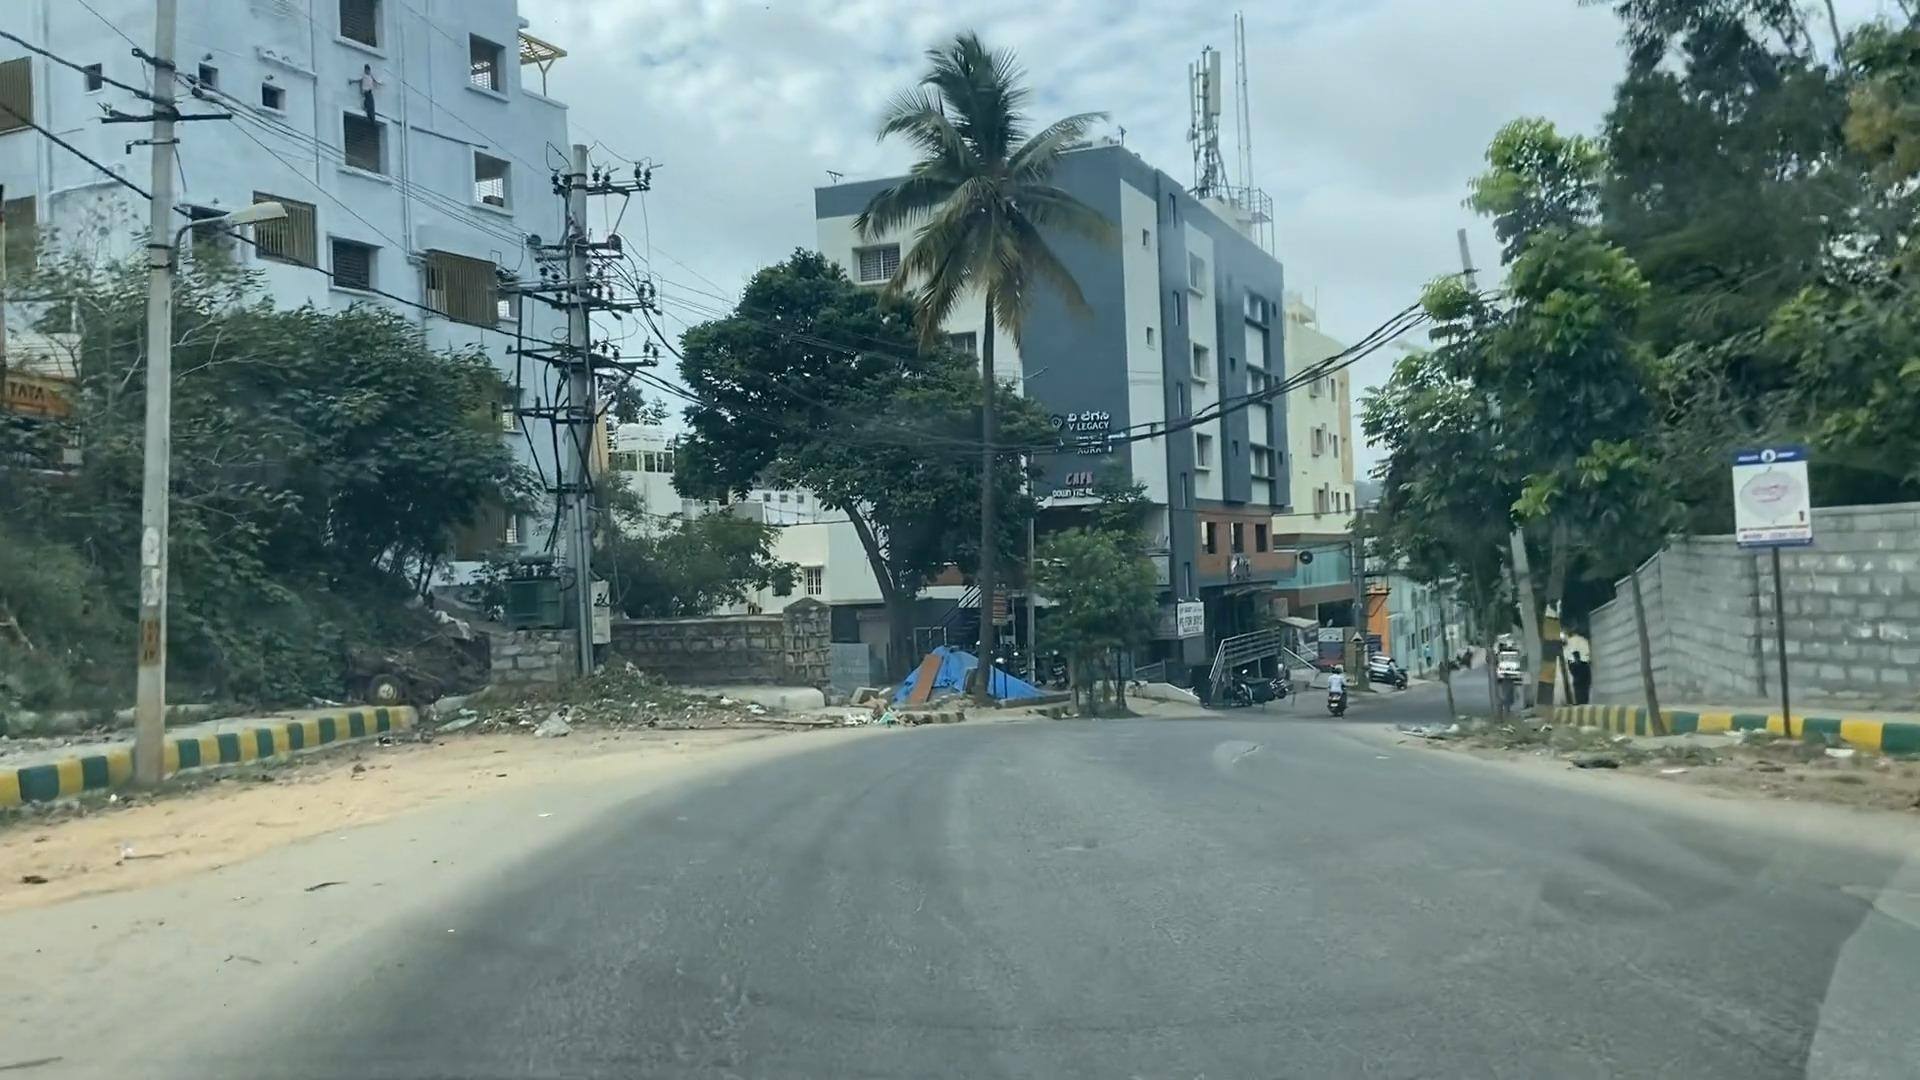RoadDamages: (1179, 716, 1291, 791)
